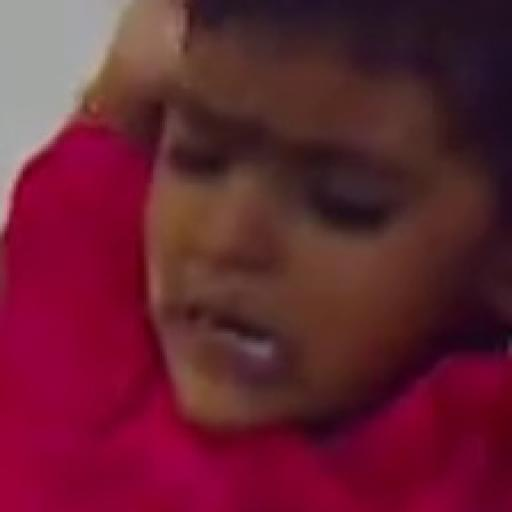Autism: (114, 32, 478, 507)
